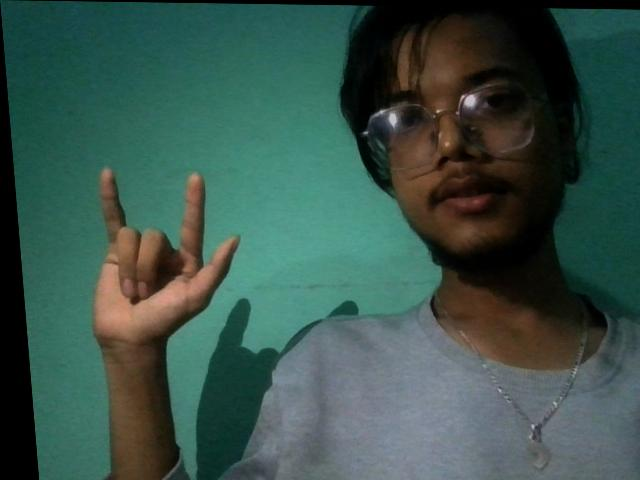I Love You: (43, 148, 260, 366)
